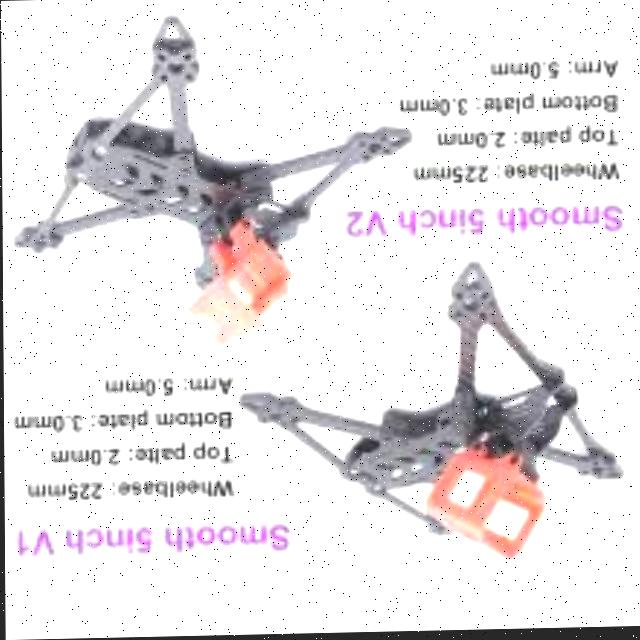drone: (16, 6, 414, 360), (212, 251, 625, 562)
